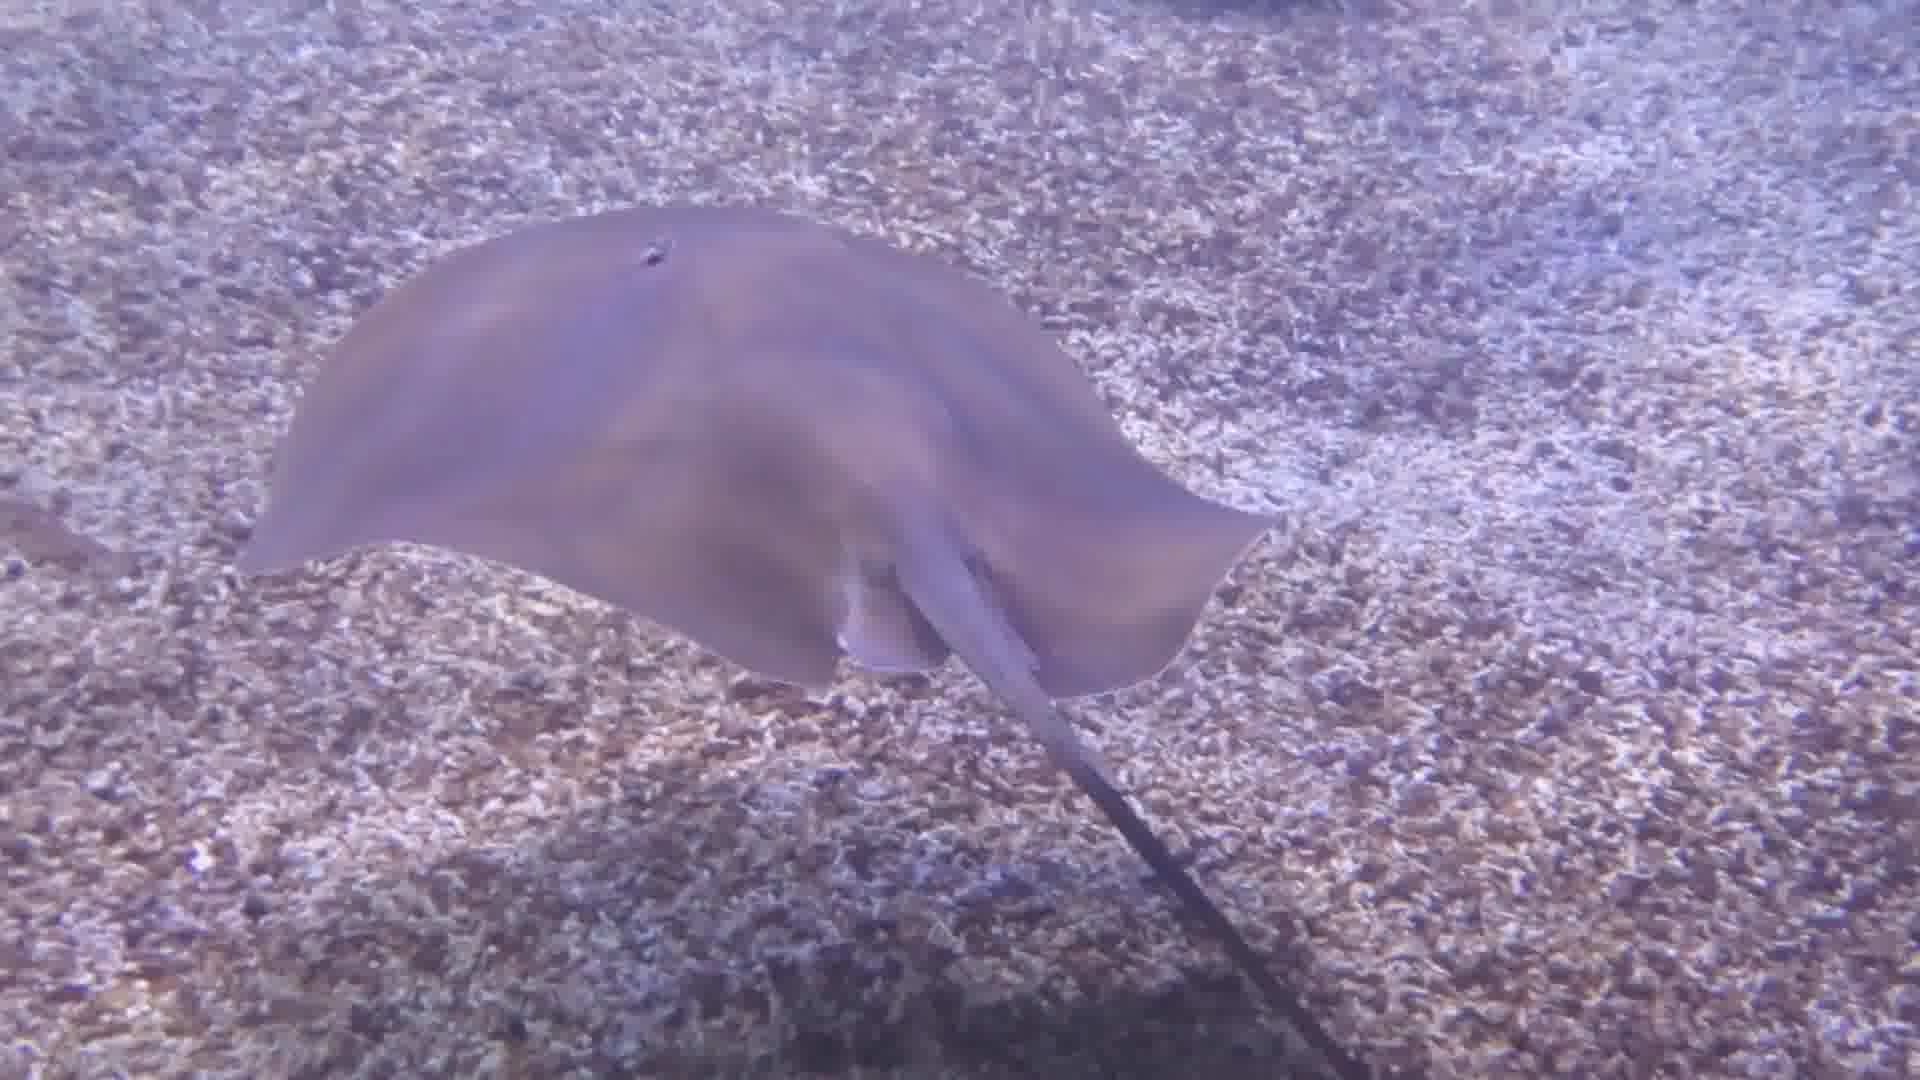Dasyatis akajei: (257, 179, 1379, 1073)
